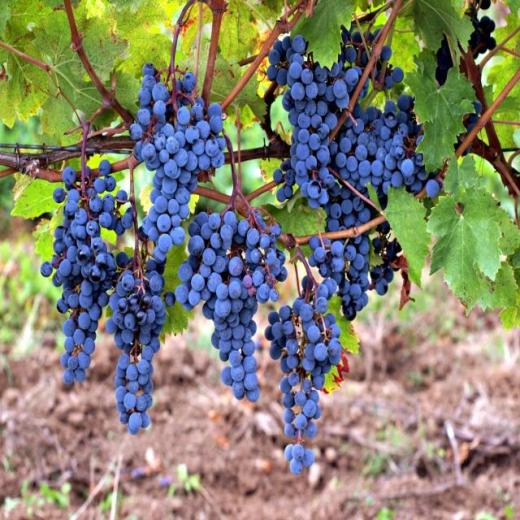Orange: (264, 34, 482, 472), (41, 63, 229, 434), (176, 214, 288, 403), (468, 0, 496, 56)
